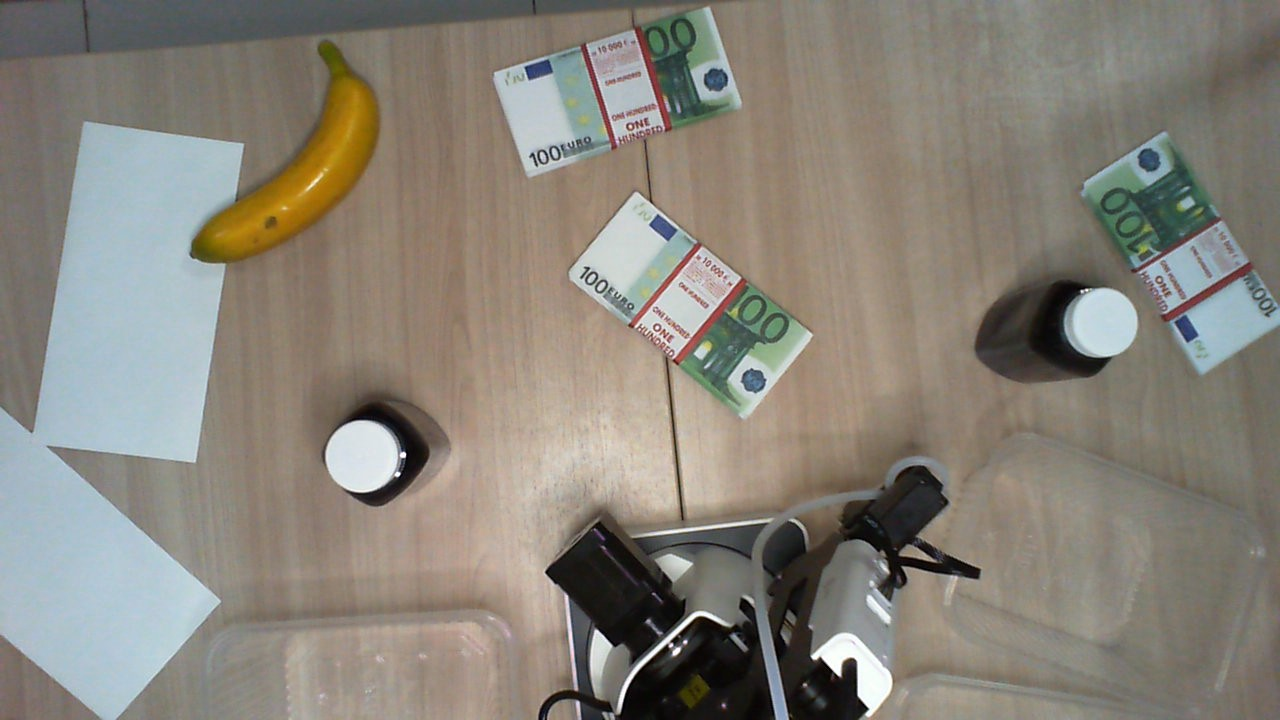banana: (188, 39, 381, 265)
bottle: (324, 402, 414, 507), (1050, 280, 1139, 367)
convert: (30, 122, 245, 464), (1, 405, 222, 719)
money: (568, 192, 814, 421), (493, 5, 744, 177)
